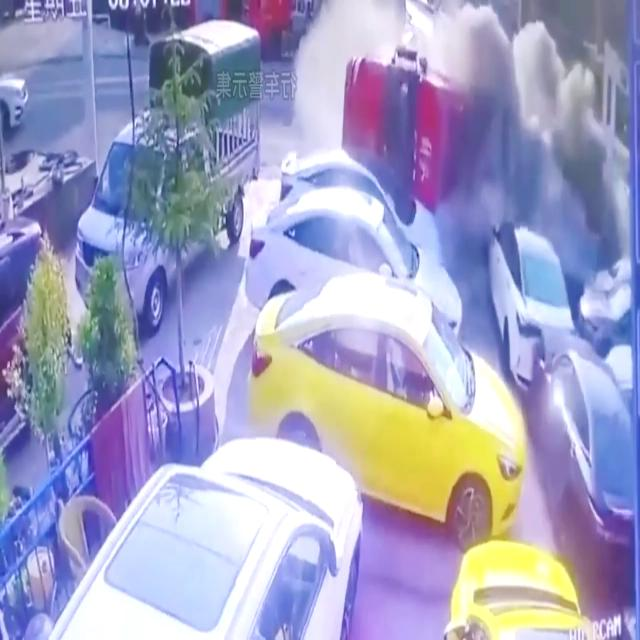accident: (279, 49, 633, 389)
non-accident: (42, 276, 634, 640), (41, 278, 523, 640)
